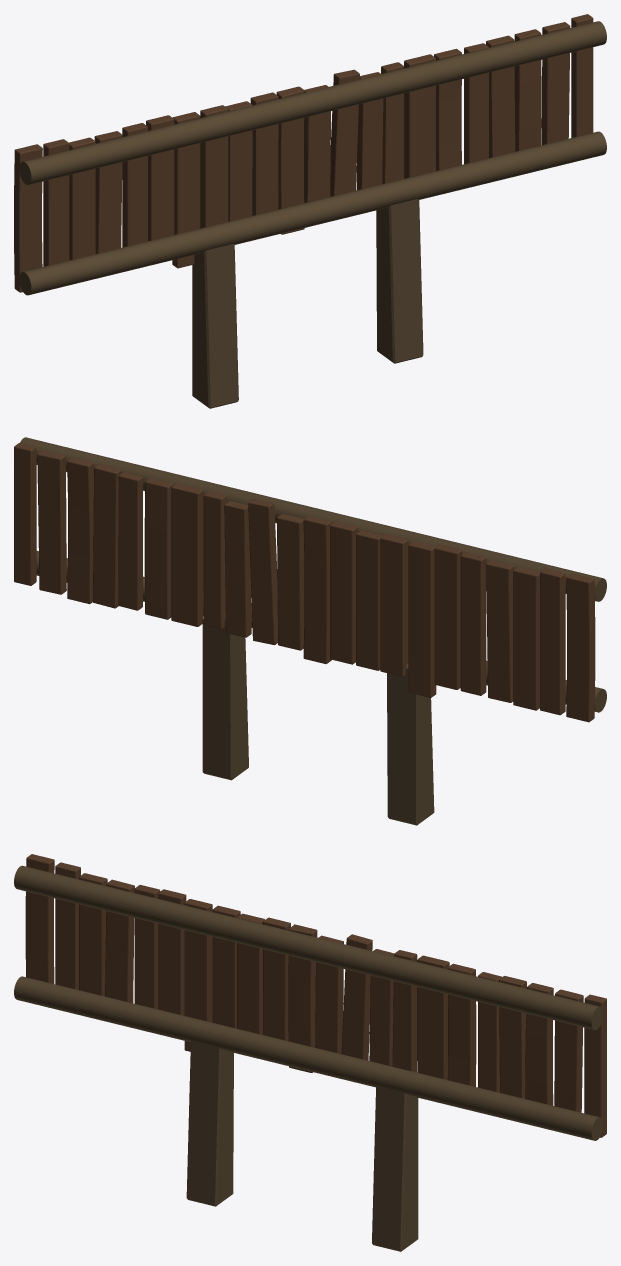
Rendered from wallrun.fbx.
The picture shows the model from 3 angles, top to bottom: view 1: azimuth 30°, elevation 25°; view 2: azimuth 150°, elevation 25°; view 3: azimuth 330°, elevation 25°; orthographic projection.
Parts seen in each view (by area): view 1: Planks, Cylinder, Cube.001; view 2: Planks, Cube.001, Cylinder; view 3: Planks, Cylinder, Cube.001.
Boxes of the visible parts, x1,y1,x2,y2 form: Planks: (14,14,593,292); Cylinder: (19,21,606,295); Cube.001: (192,198,423,408); Planks: (14,443,595,722); Cube.001: (202,617,434,825); Cylinder: (20,437,606,712); Planks: (25,854,606,1137); Cylinder: (14,865,603,1140); Cube.001: (186,1041,418,1251).
Bounding box in the file's own units: 770 × 368 × 49.38.
